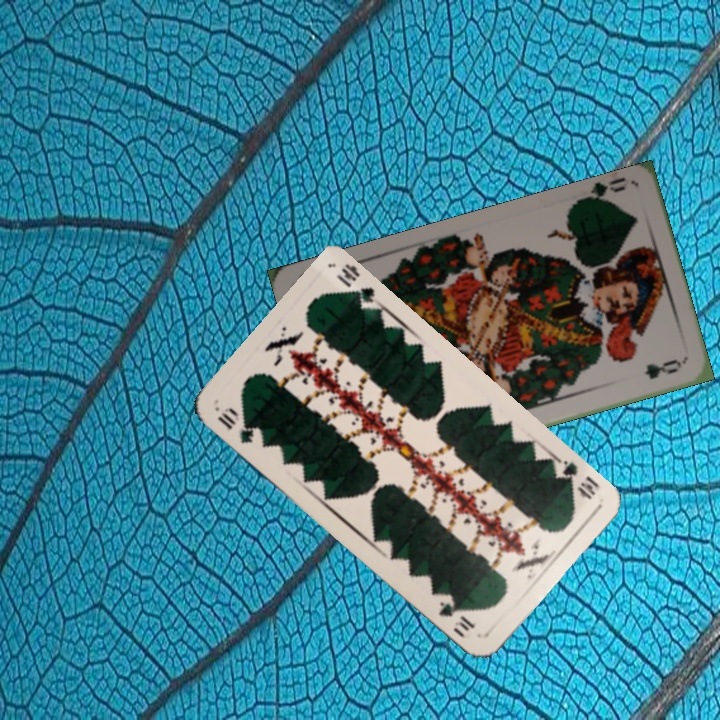G10: (549, 455, 602, 503), (213, 403, 257, 446)
GO: (574, 175, 628, 207)
